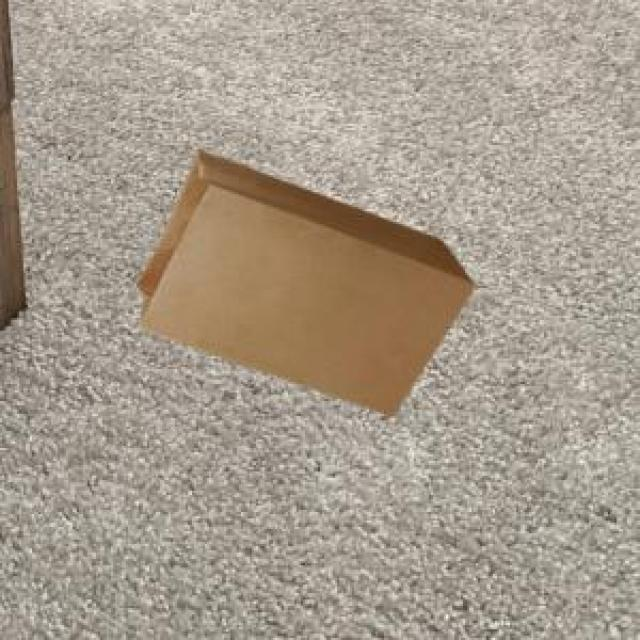paper: (132, 147, 469, 412)
